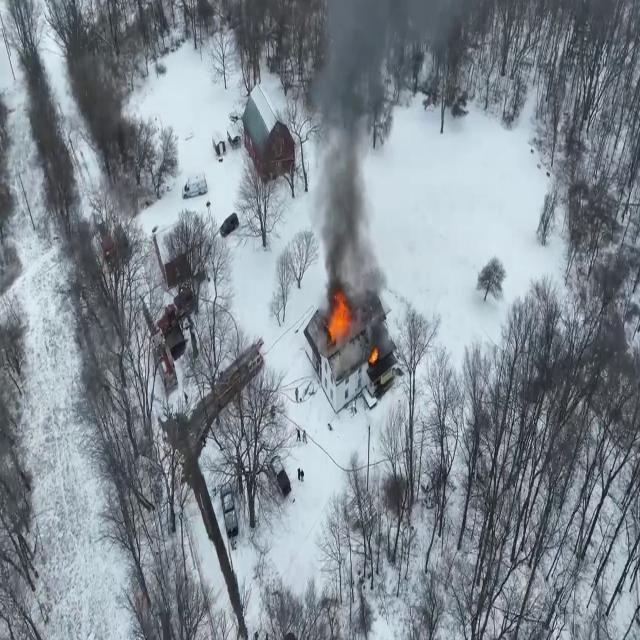Fire: (324, 285, 356, 353)
Smoke: (304, 1, 396, 290)
